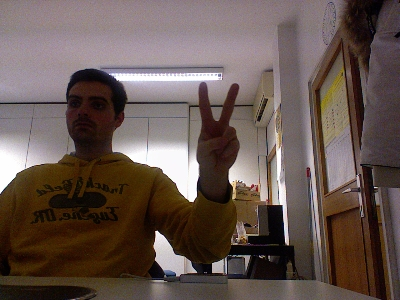剪刀: (194, 81, 240, 171)
